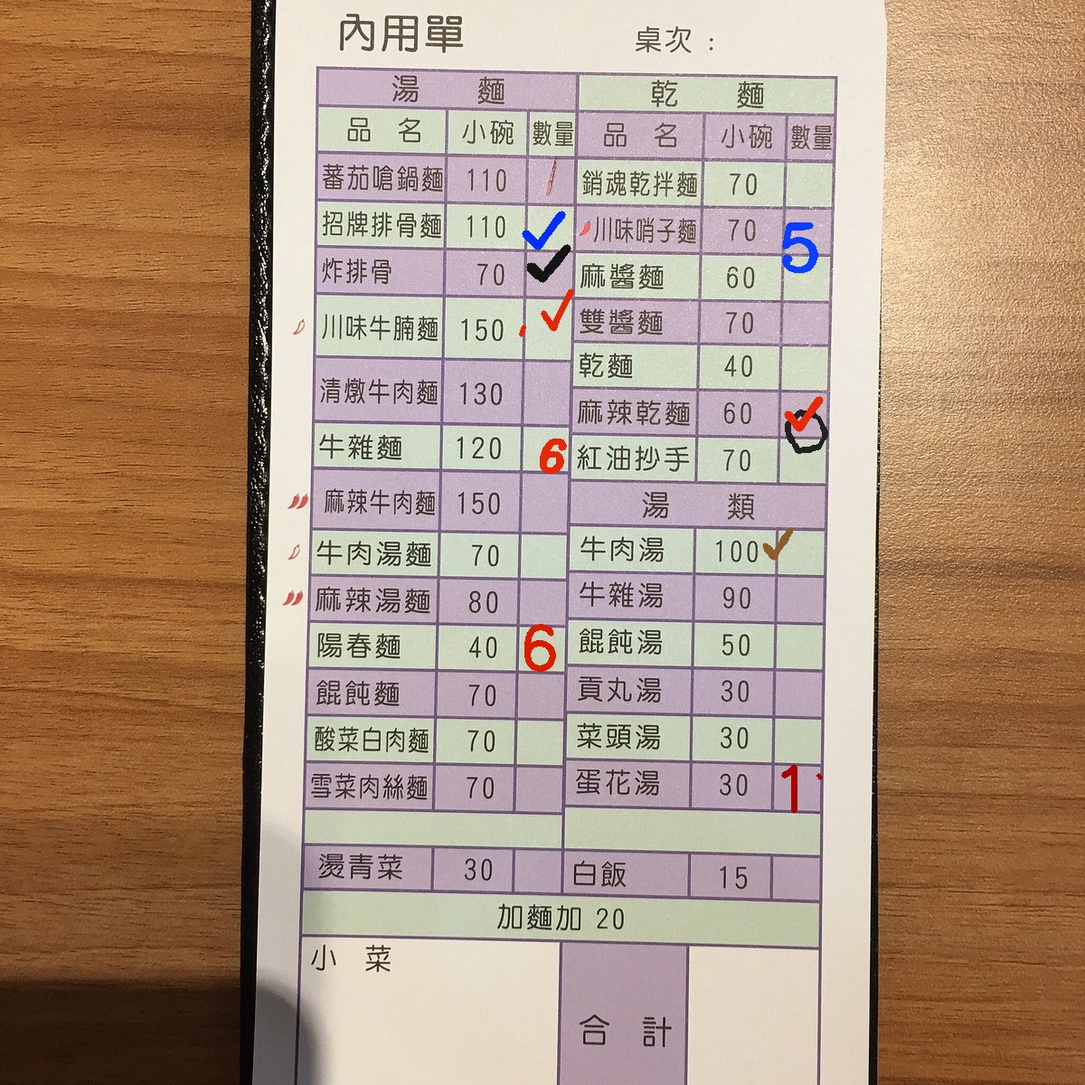marked_hollow: (778, 436, 826, 482)
marked_number_1: (772, 765, 820, 811)
marked_number_5: (782, 206, 830, 252)
marked_number_6: (520, 426, 568, 472), (517, 623, 565, 669)
marked_tick: (524, 297, 570, 359), (525, 203, 573, 250), (780, 388, 828, 434), (525, 251, 573, 297), (777, 529, 825, 575)
